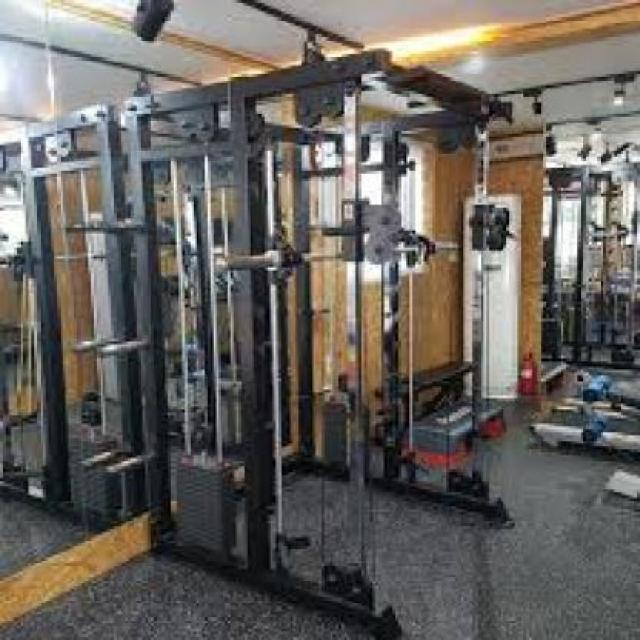smith machine: (116, 47, 515, 640)
